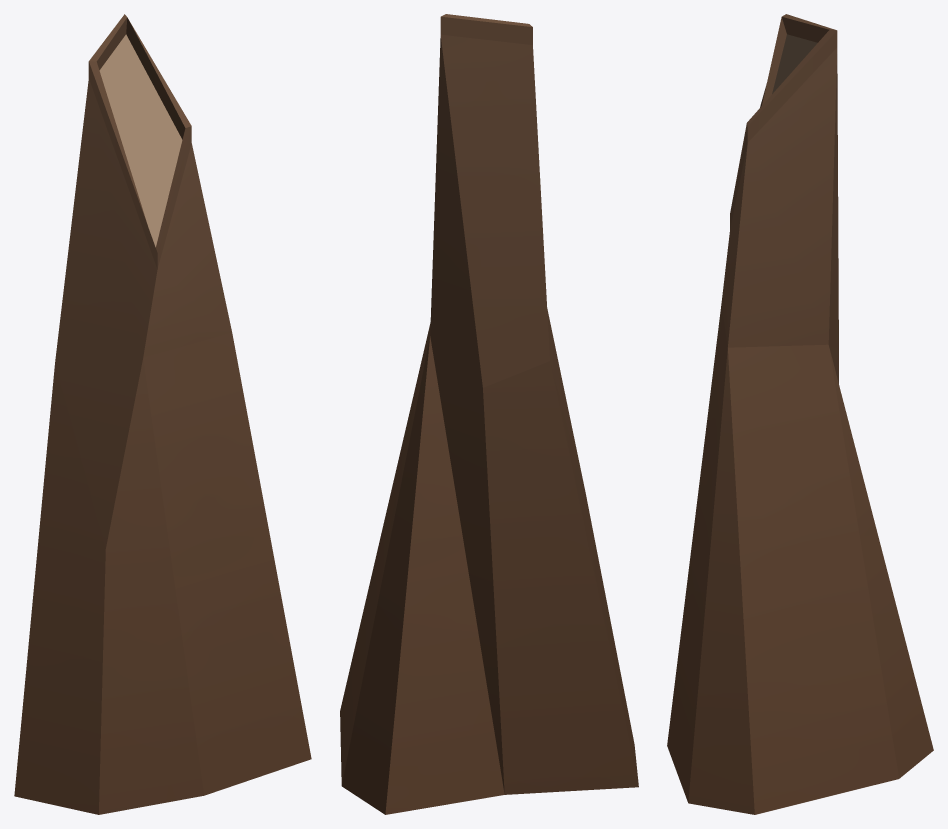
The model's file is stump_pine.fbx.
The picture shows the model from 3 angles, left to right: view 1: azimuth 30°, elevation 25°; view 2: azimuth 150°, elevation 25°; view 3: azimuth 270°, elevation 25°; orthographic projection. The views are drawn at different scales.
Parts seen in each view (by area): view 1: stump_pine; view 2: stump_pine; view 3: stump_pine.
Boxes of the visible parts, bbox=[...] form: stump_pine: bbox=[14, 14, 311, 814]; stump_pine: bbox=[340, 14, 638, 814]; stump_pine: bbox=[667, 14, 933, 814].
Size of the model in its own units: 1.25 by 3.01 by 1.01.
1 material, 1 textured.
